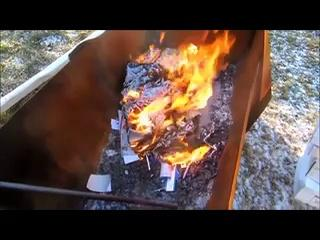Fire: (125, 26, 236, 167)
